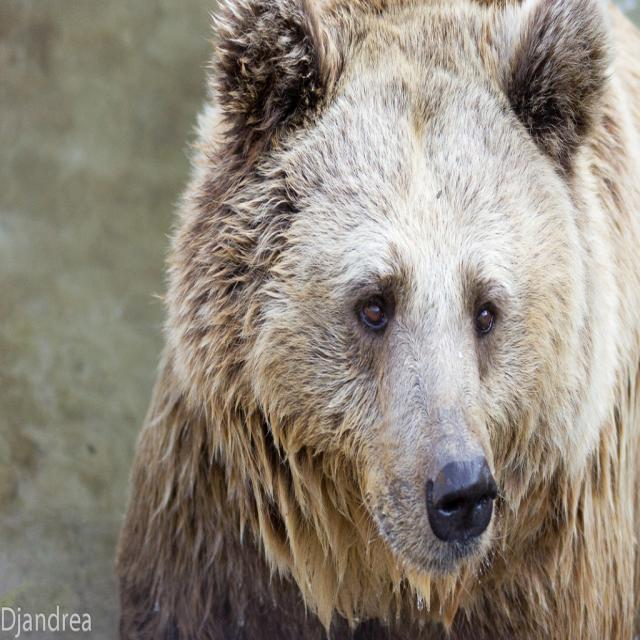Cheetahs: (114, 0, 639, 639)
